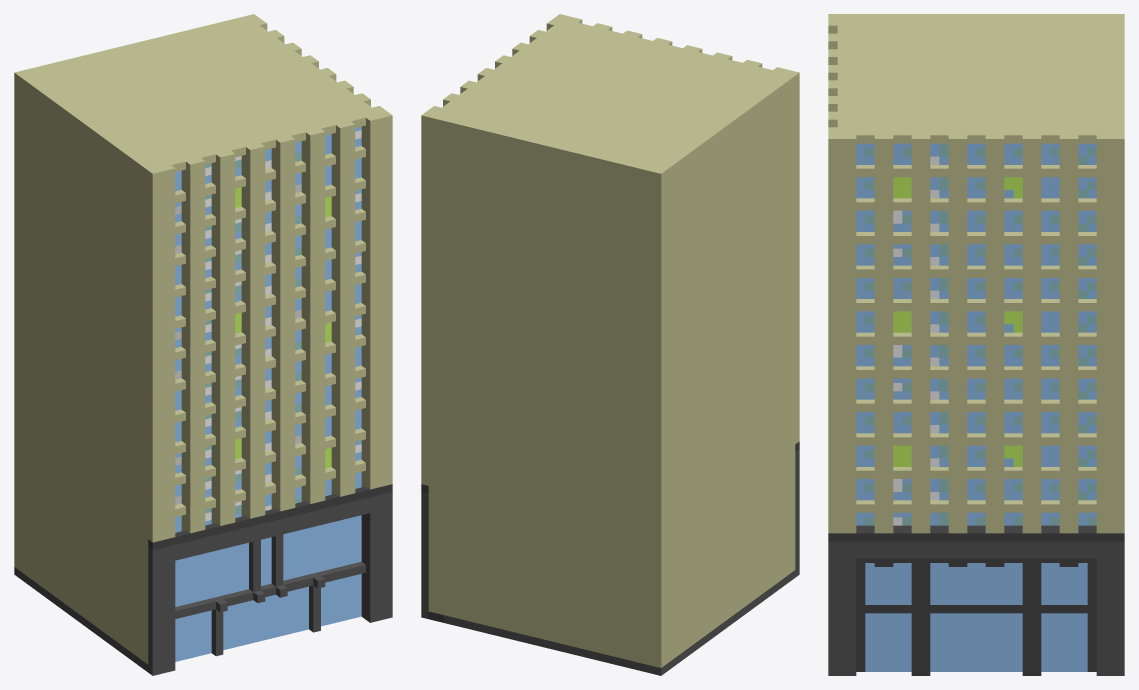
The model's file is SkyScraperBase.vox.obj.
3 renders of one model, left to right at view 1: azimuth 30°, elevation 25°; view 2: azimuth 150°, elevation 25°; view 3: azimuth 270°, elevation 25°, orthographic. The views are drawn at different scales.
Bounding box in the file's own units: 3.2 × 6.4 × 3.2.
1 material, 1 textured.
